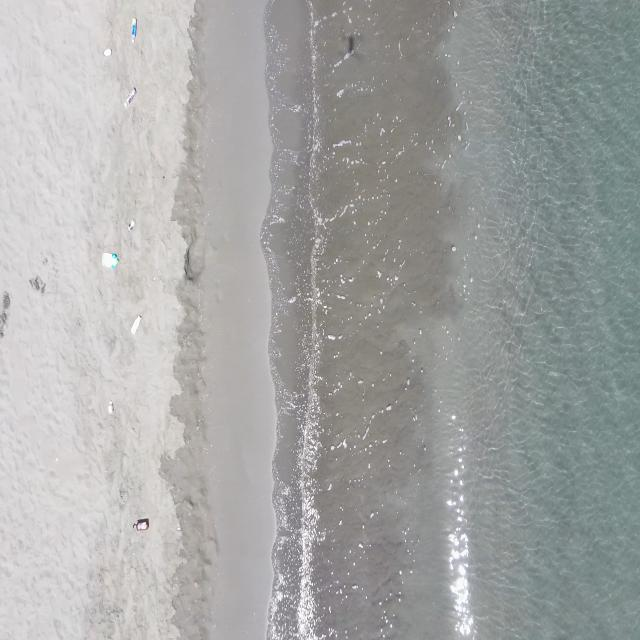Garbage: (28, 275, 44, 292), (101, 252, 118, 267), (123, 88, 136, 107), (132, 517, 148, 529), (131, 315, 140, 333), (131, 16, 136, 42), (120, 487, 127, 503), (107, 400, 114, 413), (128, 220, 135, 230), (103, 48, 111, 55), (452, 244, 455, 252)
